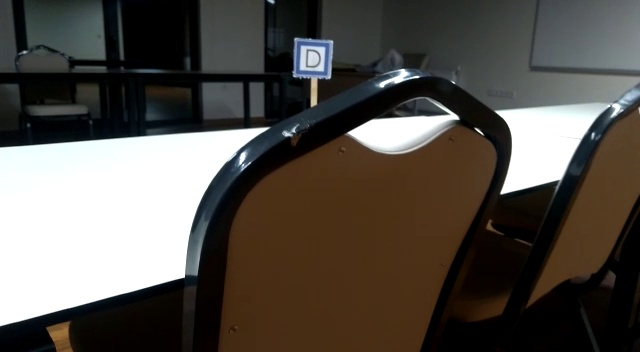durak: (293, 38, 331, 77)
